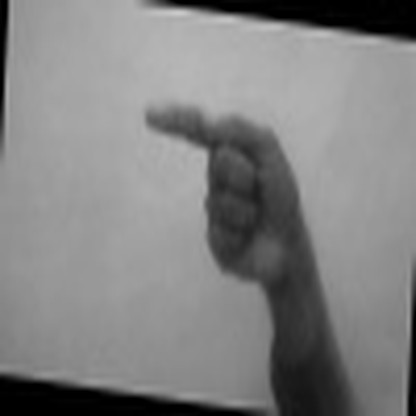g: (114, 98, 361, 278)
